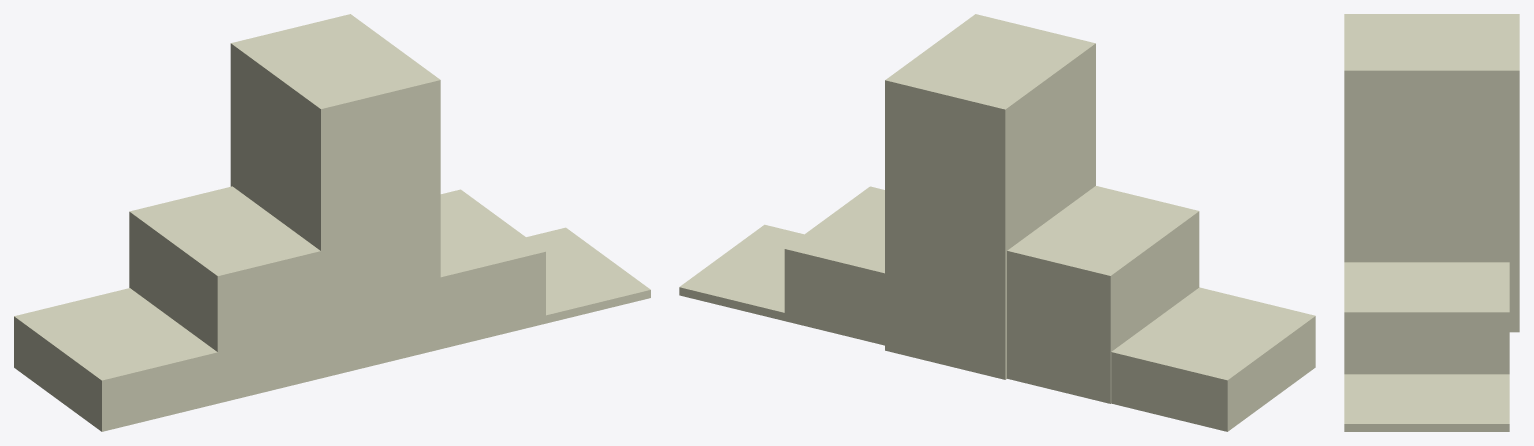
3 renders of one model, left to right at view 1: azimuth 30°, elevation 25°; view 2: azimuth 150°, elevation 25°; view 3: azimuth 270°, elevation 25°, orthographic. The views are drawn at different scales.
Visible parts, largest first — view 1: SketchUp; view 2: SketchUp; view 3: SketchUp.
Part boxes in pixels (x1,y1,x2,y2): SketchUp: [14, 14, 650, 431]; SketchUp: [679, 14, 1315, 431]; SketchUp: [1344, 14, 1519, 431].
Bounding box in the file's own units: 559 × 159 × 262.
